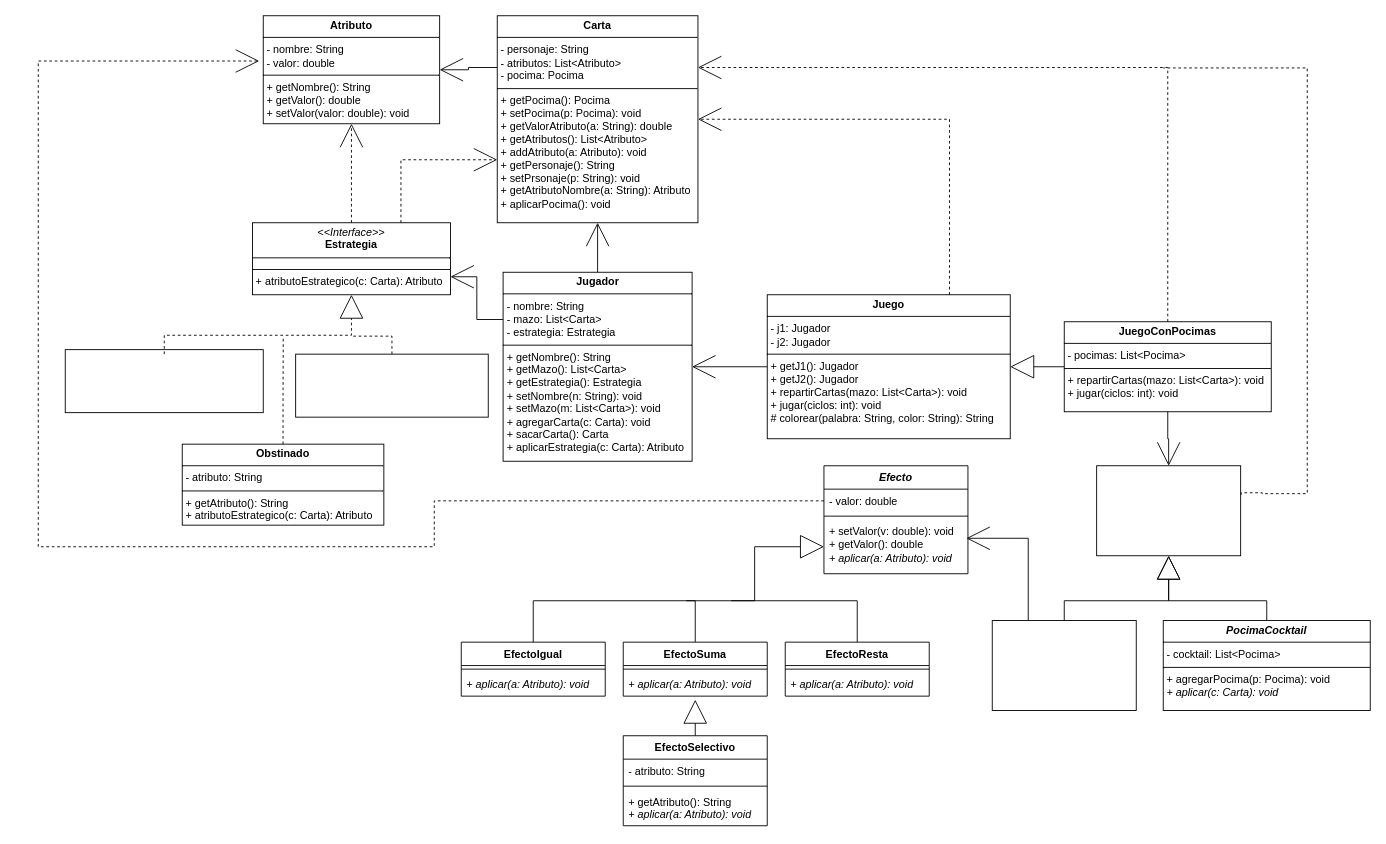
Image size: 1386x844. Some labels were removed from this diagram. Here are the shapes that lost their labels. From the top down, the centre of each, then its label:
the point at 163,381: Timbero + atributoEstrategico(c: Carta): Atributo
the point at 391,385: Ambicioso + atributoEstrategico(c: Carta): Atributo
the point at 1168,510: Pocima - nombre: String + getNombre(): String + aplicar(c: Carta): void
the point at 1063,665: PocimaSimple - efecto: Efecto + getEfecto(): Efecto + aplicar(c: Carta): void
